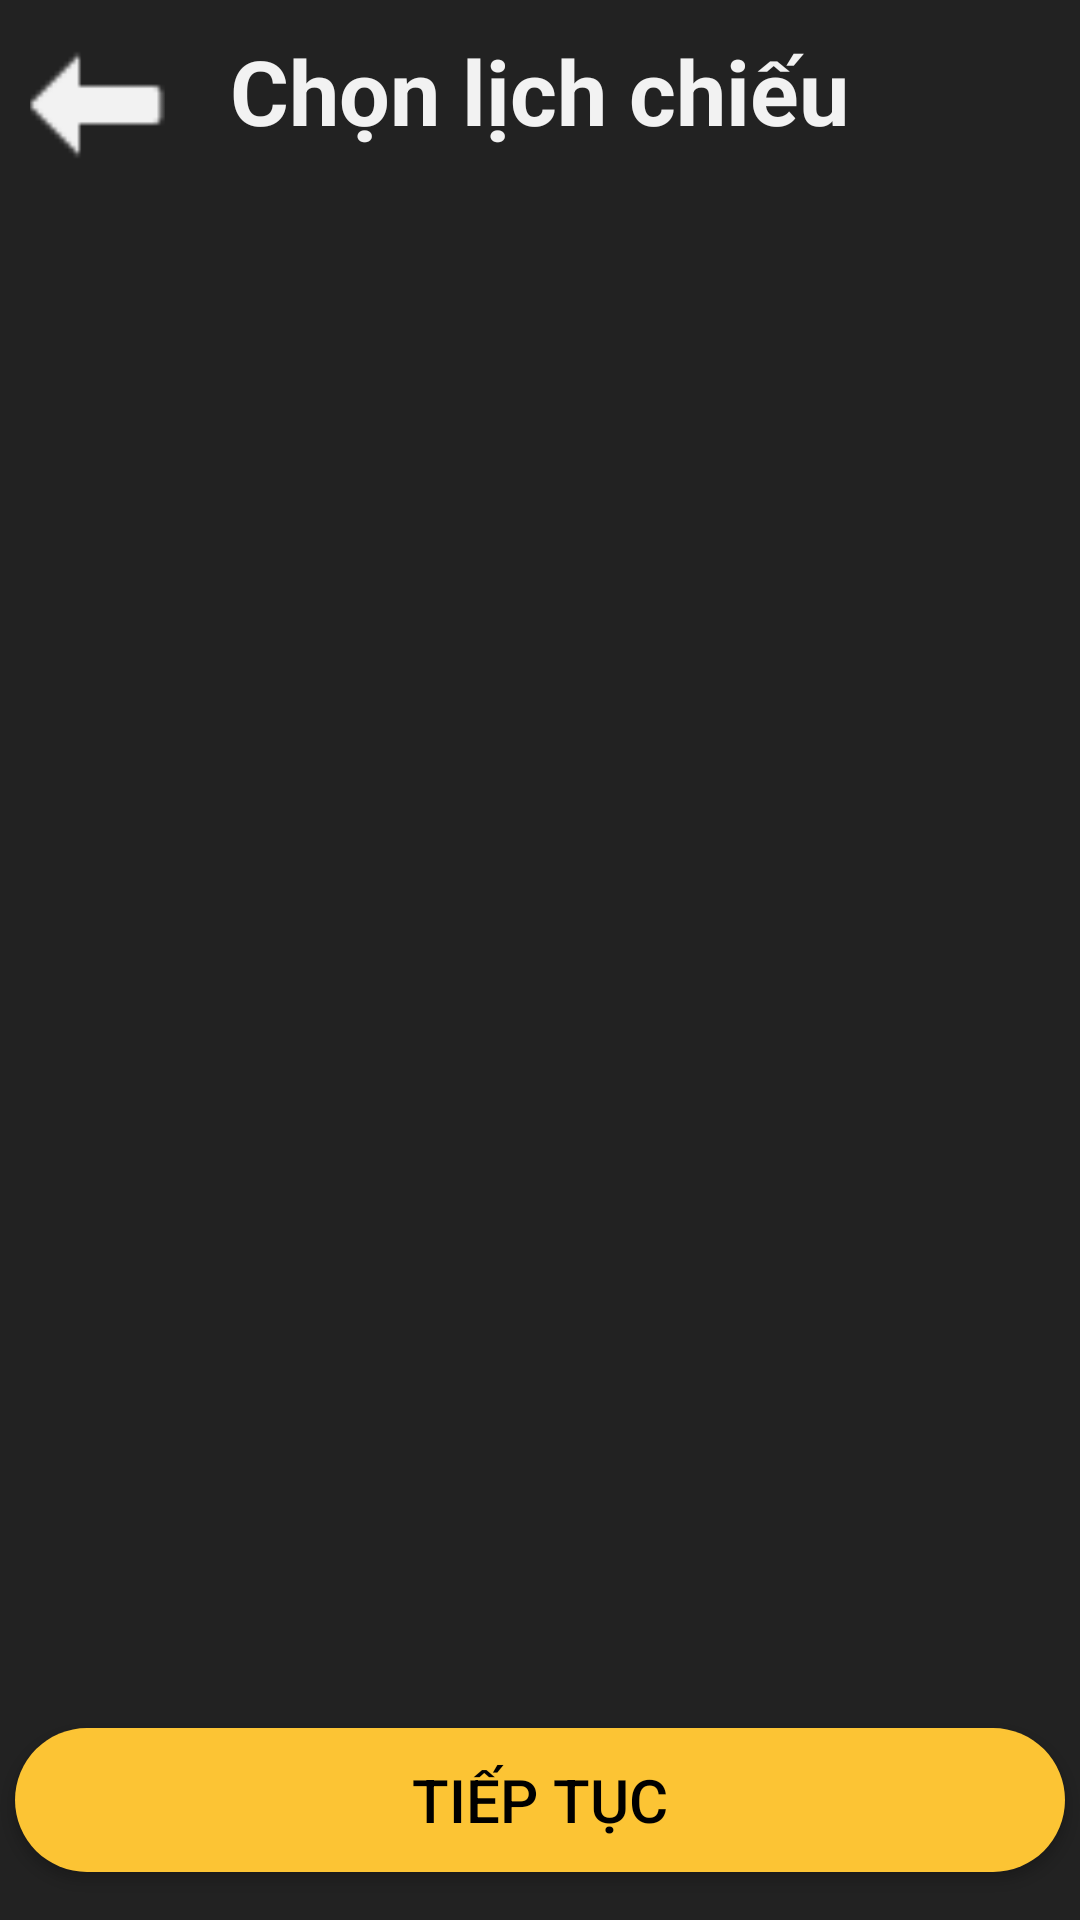

Where to tap for icons on this 1080px x 1920px app screen, as [x,y]:
arrow: [97,105]
